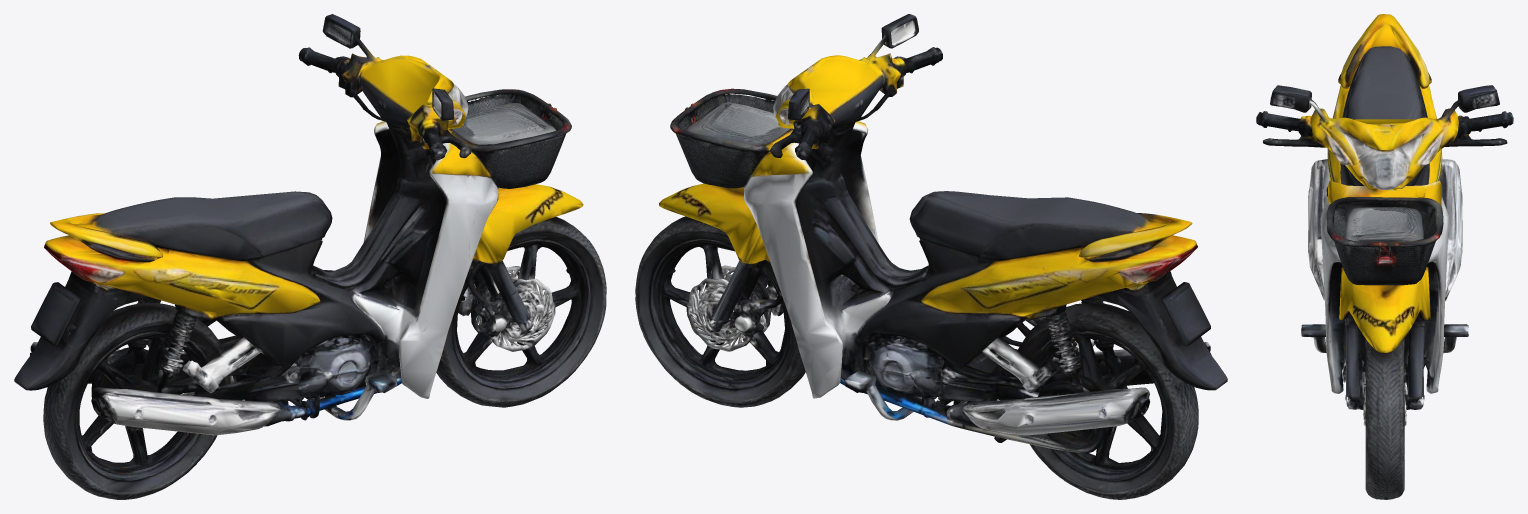
The model's file is xelongq9.glb.
The picture shows the model from 3 angles, left to right: view 1: azimuth 30°, elevation 25°; view 2: azimuth 150°, elevation 25°; view 3: azimuth 270°, elevation 25°; orthographic projection. The views are drawn at different scales.
Visible parts, largest first — view 1: Mesh_0; view 2: Mesh_0; view 3: Mesh_0.
Part boxes in pixels (x1,y1,x2,y2): Mesh_0: [14, 14, 606, 499]; Mesh_0: [635, 14, 1227, 499]; Mesh_0: [1256, 14, 1513, 499].
Bounding box in the file's own units: 1.12 × 0.6913 × 0.4643.
Materials: 1 (1 with a texture image).
